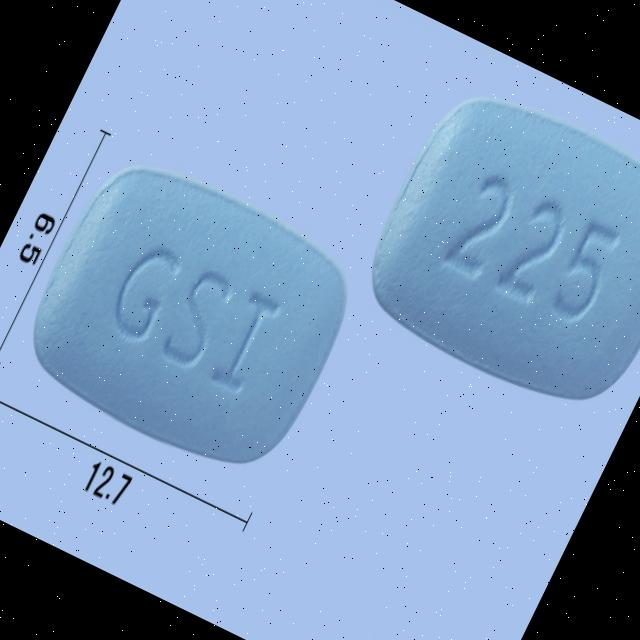Descovy: (4, 136, 378, 497), (341, 63, 640, 429)
